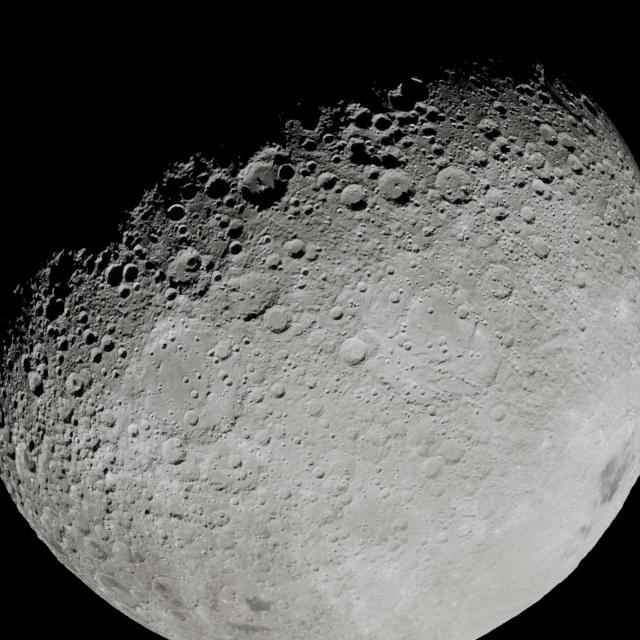crater: (434, 166, 472, 202), (377, 169, 414, 202), (169, 248, 202, 280), (388, 82, 422, 111), (339, 337, 369, 365), (262, 306, 292, 332), (483, 263, 512, 289), (160, 437, 186, 465), (204, 174, 231, 200), (340, 184, 367, 208), (305, 328, 332, 352), (323, 474, 349, 498), (482, 187, 508, 210), (66, 372, 90, 396), (420, 456, 444, 479), (527, 235, 551, 258), (442, 442, 466, 464), (386, 419, 410, 440), (488, 138, 513, 158), (282, 238, 306, 258), (45, 297, 65, 320), (468, 147, 491, 167), (476, 118, 500, 137), (526, 151, 548, 171), (316, 171, 339, 190), (105, 263, 124, 286), (371, 113, 394, 132), (179, 182, 200, 202), (557, 132, 579, 151), (530, 178, 552, 197), (210, 341, 232, 360), (353, 110, 375, 129), (57, 399, 75, 422), (27, 371, 45, 393), (380, 152, 402, 170), (166, 203, 186, 222), (566, 154, 585, 173), (276, 163, 296, 181), (216, 532, 236, 550), (539, 124, 558, 142), (489, 404, 508, 422), (519, 205, 537, 223), (227, 219, 244, 238), (264, 253, 282, 270), (82, 328, 99, 346), (98, 410, 116, 427), (122, 264, 139, 282), (364, 165, 382, 182), (562, 178, 578, 195), (600, 160, 616, 177), (100, 335, 116, 352), (392, 518, 409, 534), (269, 382, 285, 398), (183, 410, 199, 426), (227, 453, 243, 469), (211, 508, 227, 524), (302, 245, 318, 261), (248, 388, 265, 403), (254, 431, 270, 446), (228, 240, 243, 256), (89, 348, 104, 363), (329, 306, 345, 320), (308, 403, 323, 417), (118, 285, 132, 300), (48, 460, 61, 476), (132, 244, 146, 258), (164, 288, 178, 302), (126, 423, 140, 437), (431, 143, 445, 157), (76, 312, 90, 326), (304, 160, 318, 173), (56, 336, 69, 350), (422, 225, 436, 238), (312, 466, 326, 479), (322, 133, 336, 146), (435, 531, 449, 543), (142, 489, 154, 502), (279, 488, 292, 500), (288, 197, 301, 209), (503, 335, 515, 348), (388, 291, 401, 303), (217, 369, 229, 381), (379, 488, 391, 500), (457, 306, 469, 318), (577, 318, 588, 331), (117, 347, 128, 359), (518, 95, 530, 106), (385, 265, 396, 276), (303, 205, 314, 216), (437, 335, 448, 346), (357, 282, 368, 292), (252, 348, 262, 358), (246, 363, 256, 373), (373, 465, 383, 475), (427, 406, 437, 416), (230, 497, 240, 507), (576, 279, 586, 289), (584, 231, 593, 242), (616, 150, 625, 161), (409, 260, 418, 270), (403, 341, 412, 351), (612, 219, 622, 228), (300, 268, 310, 277), (190, 390, 199, 400), (293, 436, 302, 445), (426, 306, 435, 314), (182, 376, 190, 384), (242, 338, 250, 346), (573, 236, 581, 244), (336, 208, 344, 215), (356, 232, 364, 239), (160, 342, 168, 349), (467, 270, 474, 277)
rock: (582, 99, 598, 118), (154, 270, 166, 284), (28, 439, 36, 453)
